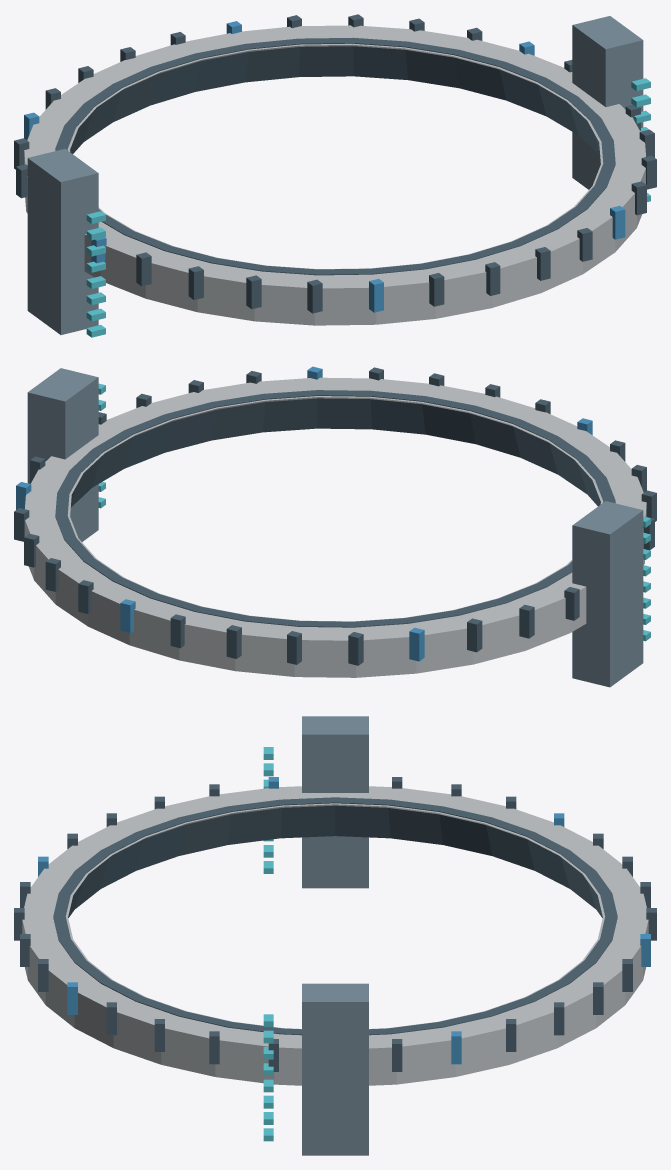
File: 23_L74_ActiveOpticalFocusCorrector.glb
The picture shows the model from 3 angles, top to bottom: view 1: azimuth 30°, elevation 25°; view 2: azimuth 150°, elevation 25°; view 3: azimuth 270°, elevation 25°; orthographic projection.
Parts seen in each view (by area): view 1: ActiveOpticalFocusCorrector_Node_0000, ActiveOpticalFocusCorrector_Node_0001, ActiveOpticalFocusCorrector_Node_0034, ActiveOpticalFocusCorrector_Node_0043, ActiveOpticalFocusCorrector_Node_0014, ActiveOpticalFocusCorrector_Node_0016, ActiveOpticalFocusCorrector_Node_0013, ActiveOpticalFocusCorrector_Node_0011, ActiveOpticalFocusCorrector_Node_0015, ActiveOpticalFocusCorrector_Node_0010, ActiveOpticalFocusCorrector_Node_0012; view 2: ActiveOpticalFocusCorrector_Node_0000, ActiveOpticalFocusCorrector_Node_0001, ActiveOpticalFocusCorrector_Node_0034, ActiveOpticalFocusCorrector_Node_0043, ActiveOpticalFocusCorrector_Node_0022, ActiveOpticalFocusCorrector_Node_0020, ActiveOpticalFocusCorrector_Node_0023, ActiveOpticalFocusCorrector_Node_0021, ActiveOpticalFocusCorrector_Node_0025, ActiveOpticalFocusCorrector_Node_0019, ActiveOpticalFocusCorrector_Node_0026, ActiveOpticalFocusCorrector_Node_0024; view 3: ActiveOpticalFocusCorrector_Node_0000, ActiveOpticalFocusCorrector_Node_0001, ActiveOpticalFocusCorrector_Node_0043, ActiveOpticalFocusCorrector_Node_0034.
Boxes of the visible parts, <box> form: ActiveOpticalFocusCorrector_Node_0000: <box>24,25,645,325</box>; ActiveOpticalFocusCorrector_Node_0001: <box>55,37,615,275</box>; ActiveOpticalFocusCorrector_Node_0034: <box>27,149,98,334</box>; ActiveOpticalFocusCorrector_Node_0043: <box>572,16,643,189</box>; ActiveOpticalFocusCorrector_Node_0014: <box>246,275,261,309</box>; ActiveOpticalFocusCorrector_Node_0016: <box>136,252,151,286</box>; ActiveOpticalFocusCorrector_Node_0013: <box>307,279,322,313</box>; ActiveOpticalFocusCorrector_Node_0011: <box>429,273,444,306</box>; ActiveOpticalFocusCorrector_Node_0015: <box>188,266,203,299</box>; ActiveOpticalFocusCorrector_Node_0010: <box>485,262,500,295</box>; ActiveOpticalFocusCorrector_Node_0012: <box>369,278,383,312</box>; ActiveOpticalFocusCorrector_Node_0000: <box>25,377,646,677</box>; ActiveOpticalFocusCorrector_Node_0001: <box>55,390,615,627</box>; ActiveOpticalFocusCorrector_Node_0034: <box>572,501,643,687</box>; ActiveOpticalFocusCorrector_Node_0043: <box>27,368,98,541</box>; ActiveOpticalFocusCorrector_Node_0022: <box>409,627,424,661</box>; ActiveOpticalFocusCorrector_Node_0020: <box>519,604,534,638</box>; ActiveOpticalFocusCorrector_Node_0023: <box>348,632,363,665</box>; ActiveOpticalFocusCorrector_Node_0021: <box>467,618,482,652</box>; ActiveOpticalFocusCorrector_Node_0025: <box>226,625,241,658</box>; ActiveOpticalFocusCorrector_Node_0019: <box>564,587,579,620</box>; ActiveOpticalFocusCorrector_Node_0026: <box>170,614,185,648</box>; ActiveOpticalFocusCorrector_Node_0024: <box>287,631,301,664</box>; ActiveOpticalFocusCorrector_Node_0000: <box>22,786,648,1085</box>; ActiveOpticalFocusCorrector_Node_0001: <box>53,797,617,1035</box>; ActiveOpticalFocusCorrector_Node_0043: <box>302,983,368,1155</box>; ActiveOpticalFocusCorrector_Node_0034: <box>302,716,368,888</box>.
Bounding box in the file's own units: 2.63 × 0.66 × 2.5.
